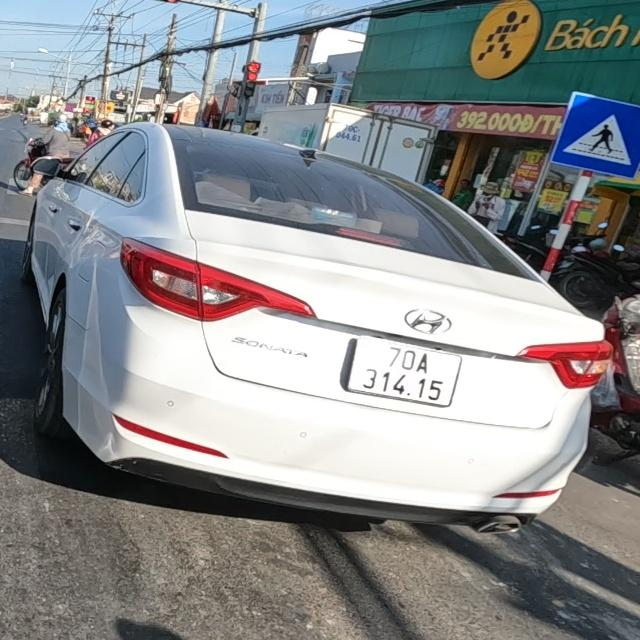license-plate: (346, 335, 462, 405)
